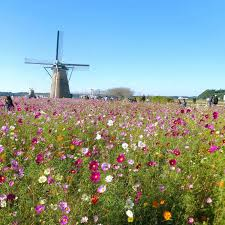field: (8, 103, 225, 222)
flower: (9, 96, 225, 222)
sky: (3, 3, 225, 96)
